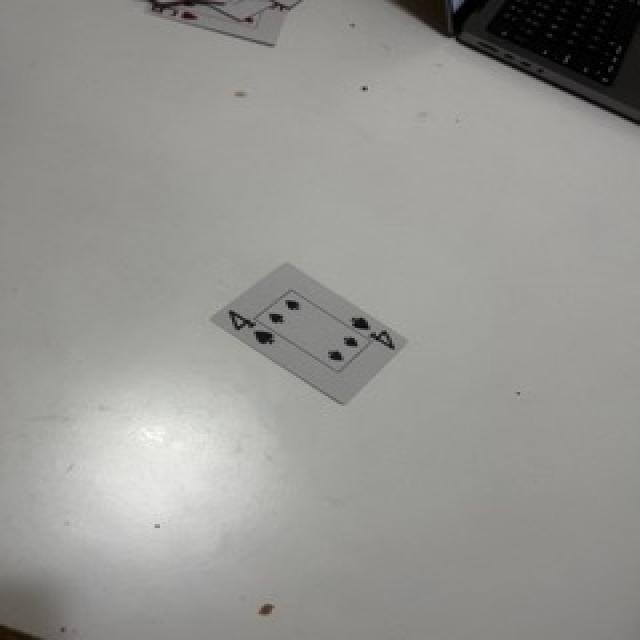4 of spades: (212, 264, 407, 404)
